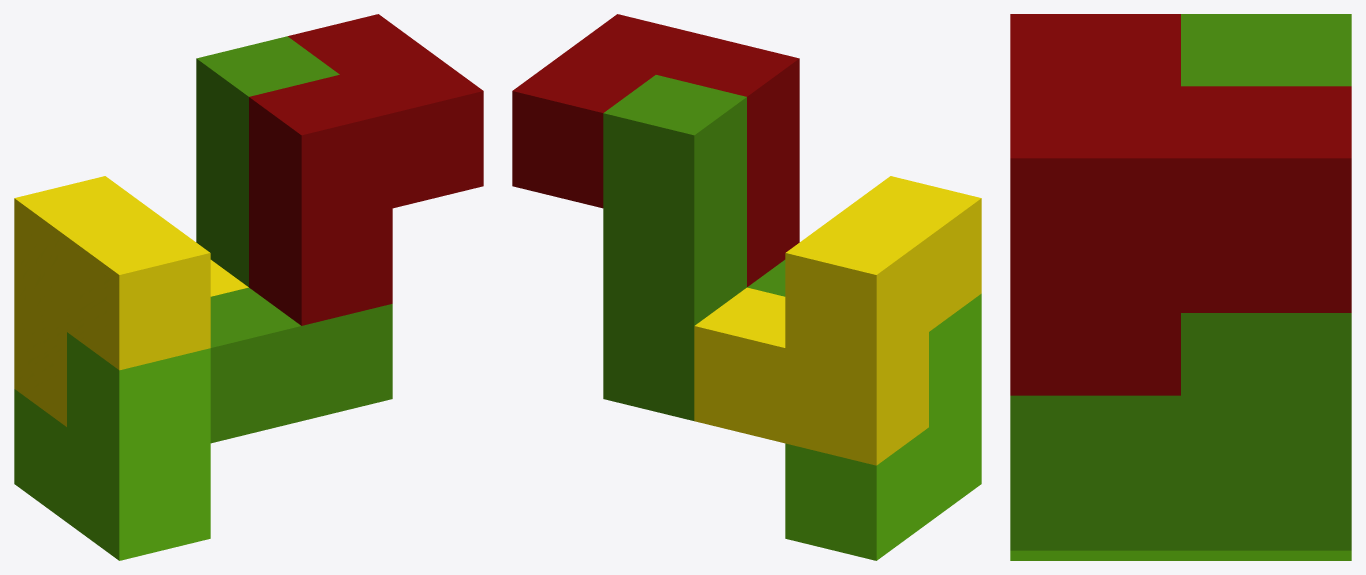
The picture shows the model from 3 angles, left to right: view 1: azimuth 30°, elevation 25°; view 2: azimuth 150°, elevation 25°; view 3: azimuth 270°, elevation 25°; orthographic projection. The views are drawn at different scales.
Visible parts, largest first — view 1: mergedBlocks(Clone); view 2: mergedBlocks(Clone); view 3: mergedBlocks(Clone).
Boxes of the visible parts, left/top/right/bottom form: mergedBlocks(Clone): left=14, top=14, right=483, bottom=560; mergedBlocks(Clone): left=512, top=14, right=981, bottom=560; mergedBlocks(Clone): left=1010, top=14, right=1351, bottom=560.
Size of the model in its own units: 4 by 4 by 2.
Materials: 4 (4 with a texture image).
